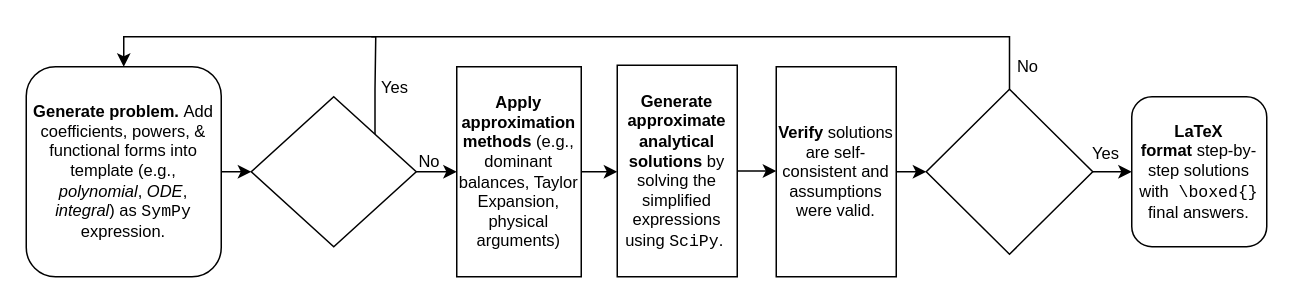
Image size: 1293x303. Some labels were removed from this diagram. Here are the shapes that lost their labels. From the top down, the centre of each, then its label:
(333,171): Problem already exists in database?
(1009,171): Analytical solutions within 10% of numerical?
